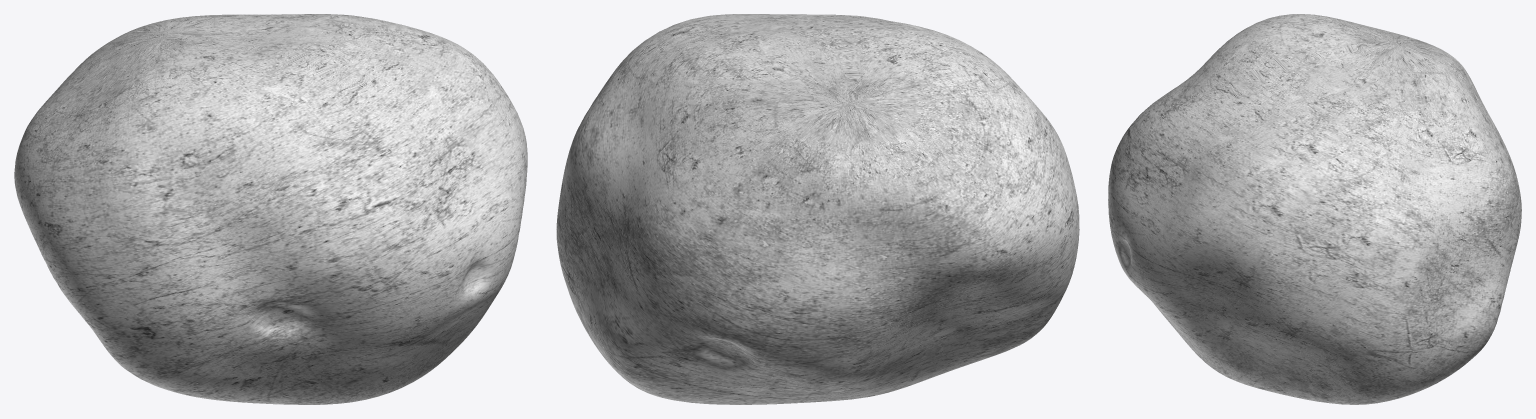
Rendered from galatea.gltf.
3 views of the same model, side by side, from view 1: azimuth 30°, elevation 25°; view 2: azimuth 150°, elevation 25°; view 3: azimuth 270°, elevation 25° (orthographic). The views are drawn at different scales.
Visible parts, largest first — view 1: galatea; view 2: galatea; view 3: galatea.
Boxes of the visible parts, left/top/right/bottom form: galatea: left=14, top=14, right=527, bottom=404; galatea: left=556, top=14, right=1079, bottom=404; galatea: left=1108, top=14, right=1521, bottom=404.
Bounding box in the file's own units: 204 × 144 × 184.
Materials: 1 (1 with a texture image).
